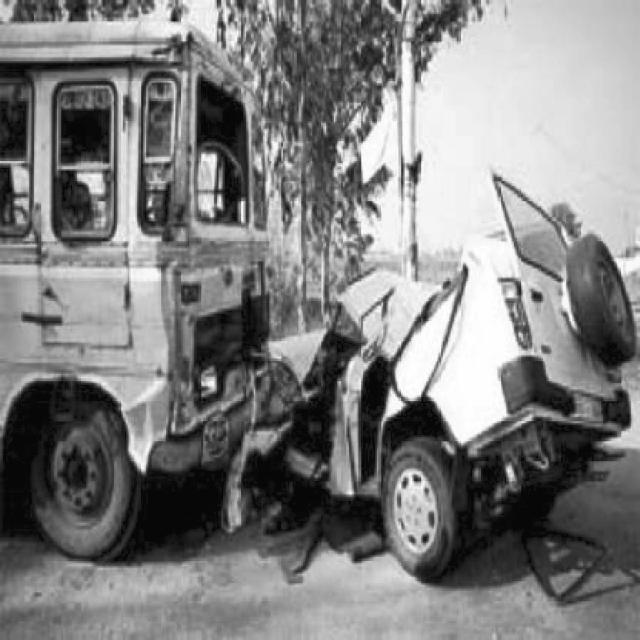HCV: (0, 0, 263, 549)
